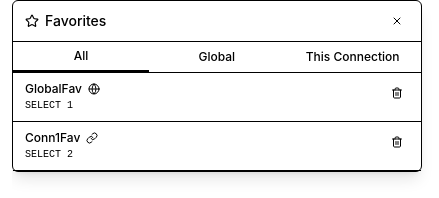
Scenario: FavoritesPanel › filter tabs › filters to connection only
Click the button with aria-label "Filter: This Connection".
click(353, 57)  # box [285, 42, 421, 72]
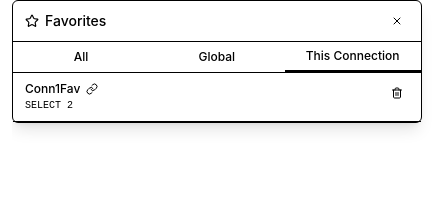
Expected: the button with aria-label "Load favorite: Conn1Fav" is shown, [13, 73, 421, 122]
Now the text labelled "Load favorite: GlobalFav" is gone
